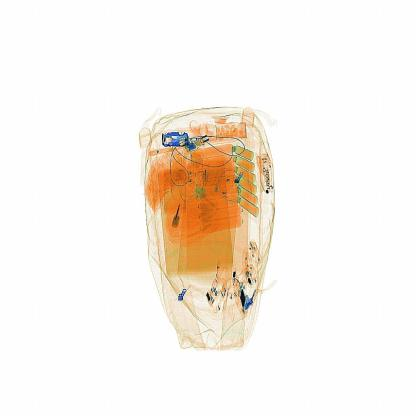wrench: (171, 198, 192, 235)
